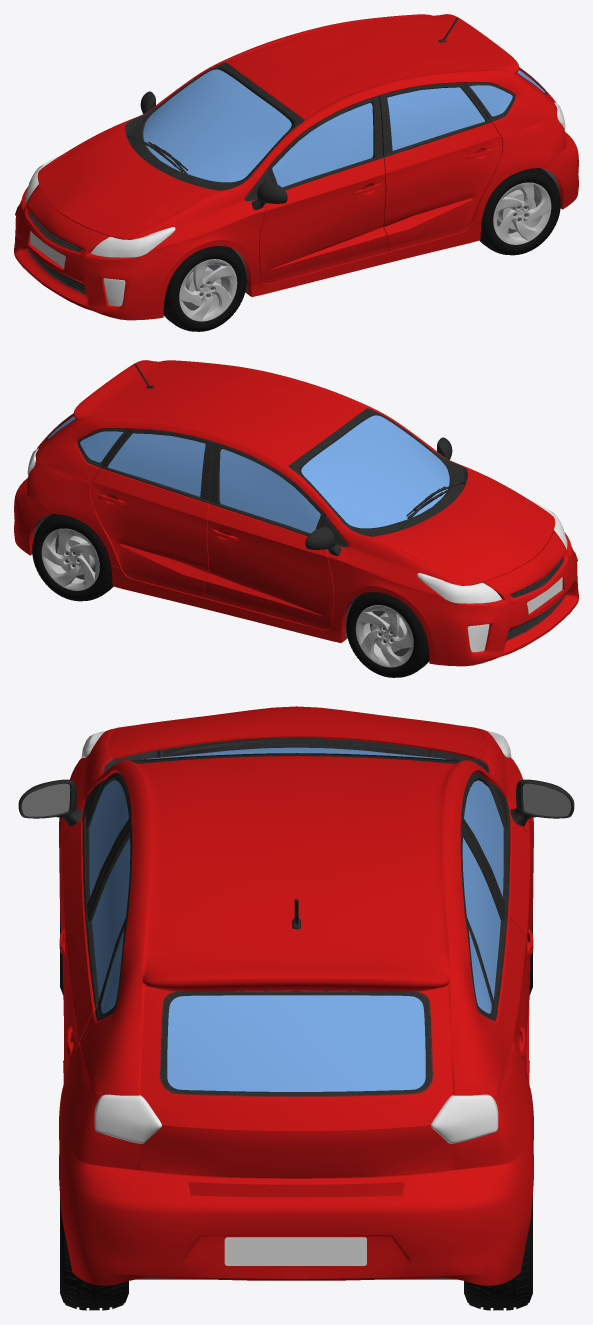
The model's file is Car.fbx.
The picture shows the model from 3 angles, top to bottom: view 1: azimuth 30°, elevation 25°; view 2: azimuth 150°, elevation 25°; view 3: azimuth 270°, elevation 25°; orthographic projection. The views are drawn at different scales.
Visible parts, largest first — view 1: chassis_hi_001, door_lf_ok_001, door_lr_ok_001, Wheel.001, window_001, window_001.001, front_la02_001, Side Mirrors_001, chassis_hi_001.001; view 2: chassis_hi_001, door_lf_ok_001, door_lr_ok_001, Wheel.001, window_001, window_001.001, front_la02_001, Side Mirrors_001, chassis_hi_001.001; view 3: chassis_hi_001, window_001, window_001.001, door_lr_ok_001, door_lf_ok_001, rear_lan01_001.001, Wheel.001, Plate Holder_001.001, Plane, Side Mirrors_001, Cylinder.002.
Part boxes in pixels (bbox=[...]): chassis_hi_001: bbox=[14, 14, 578, 320]; door_lf_ok_001: bbox=[259, 96, 388, 283]; door_lr_ok_001: bbox=[379, 83, 502, 251]; Wheel.001: bbox=[163, 168, 560, 331]; window_001: bbox=[143, 69, 545, 182]; window_001.001: bbox=[272, 85, 512, 187]; front_la02_001: bbox=[25, 156, 175, 257]; Side Mirrors_001: bbox=[140, 91, 287, 209]; chassis_hi_001.001: bbox=[103, 278, 125, 306]; chassis_hi_001: bbox=[14, 360, 578, 666]; door_lf_ok_001: bbox=[204, 442, 333, 629]; door_lr_ok_001: bbox=[90, 429, 213, 597]; Wheel.001: bbox=[32, 514, 429, 677]; window_001: bbox=[47, 415, 449, 528]; window_001.001: bbox=[80, 431, 320, 533]; front_la02_001: bbox=[417, 502, 567, 603]; Side Mirrors_001: bbox=[305, 437, 452, 555]; chassis_hi_001.001: bbox=[467, 624, 489, 652]; chassis_hi_001: bbox=[59, 706, 533, 1285]; window_001: bbox=[143, 747, 449, 1091]; window_001.001: bbox=[89, 780, 503, 1013]; door_lr_ok_001: bbox=[63, 822, 529, 1085]; door_lf_ok_001: bbox=[59, 772, 533, 1059]; rear_lan01_001.001: bbox=[94, 1094, 498, 1143]; Wheel.001: bbox=[60, 913, 532, 1310]; Plate Holder_001.001: bbox=[224, 1237, 366, 1265]; Plane: bbox=[21, 783, 571, 816]; Side Mirrors_001: bbox=[18, 779, 574, 826]; Cylinder.002: bbox=[157, 738, 371, 757].
Size of the model in its own units: 451 by 171 by 218.
Materials: 10 (1 with a texture image).
